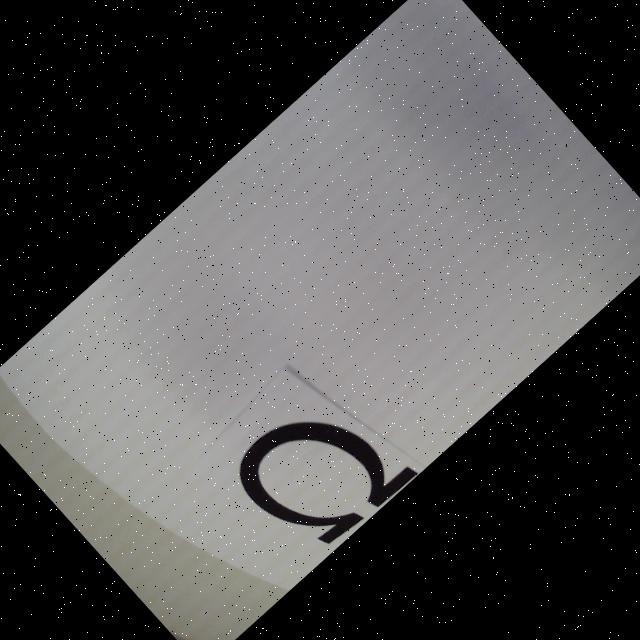OMEGA: (225, 374, 418, 568)
